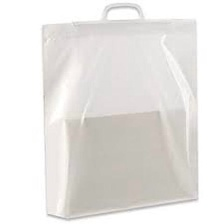plastic_bag: (34, 0, 208, 222)
